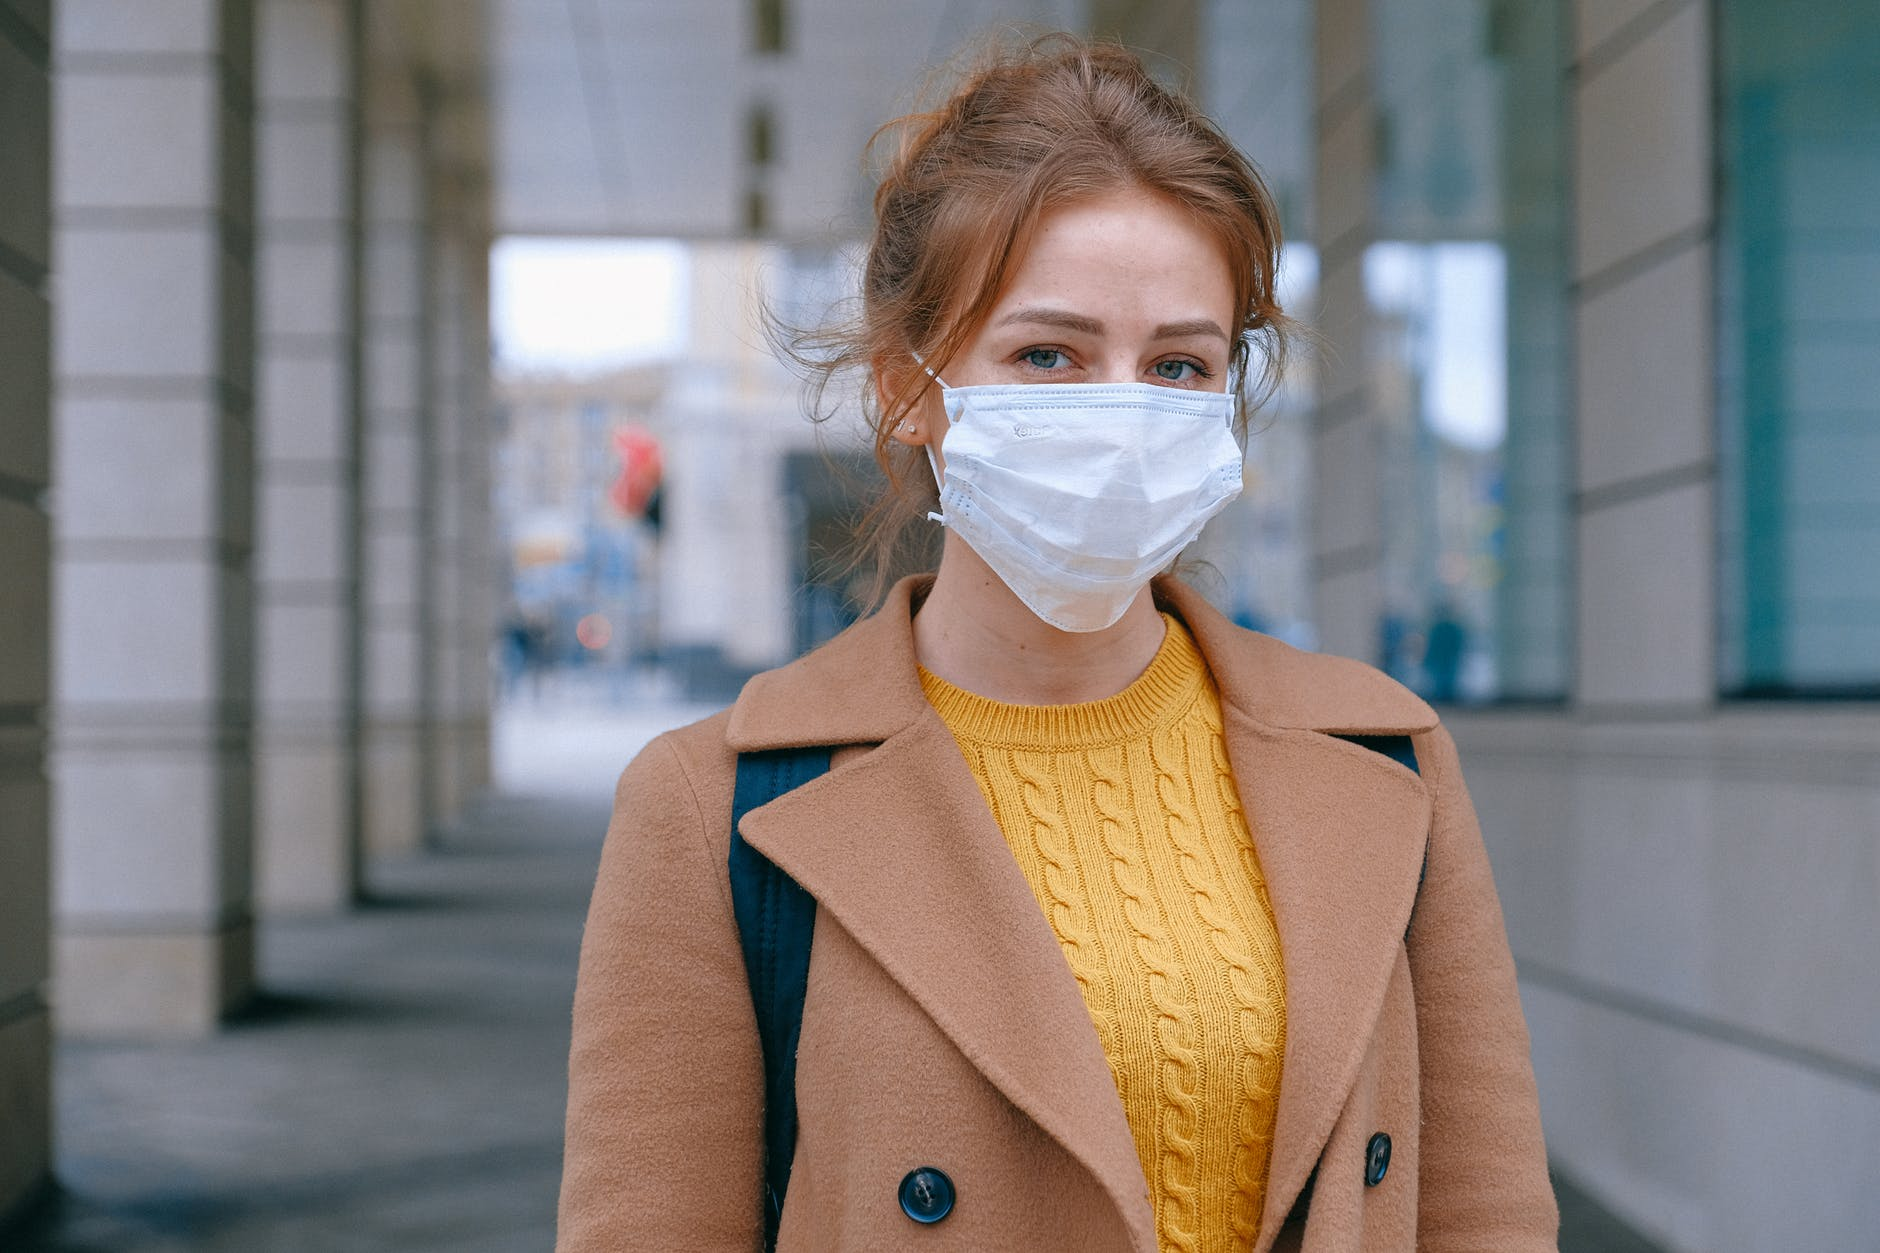with_mask: (892, 203, 1288, 625)
